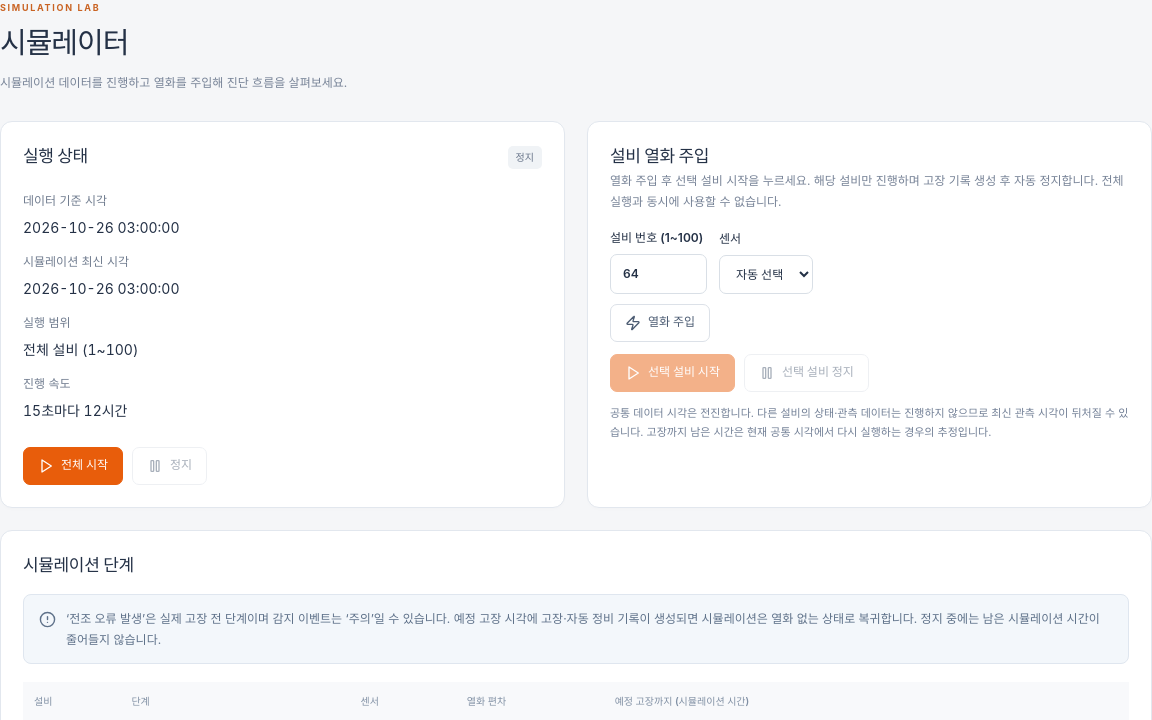
Test: scoped simulator controls › injects without starting and enables the selected run after refreshed state arrives
Expected: the button "선택 설비 시작" is disabled, [610, 354, 735, 392]
Click the button "열화 주입": coordinates (660, 323) [610, 304, 710, 342]
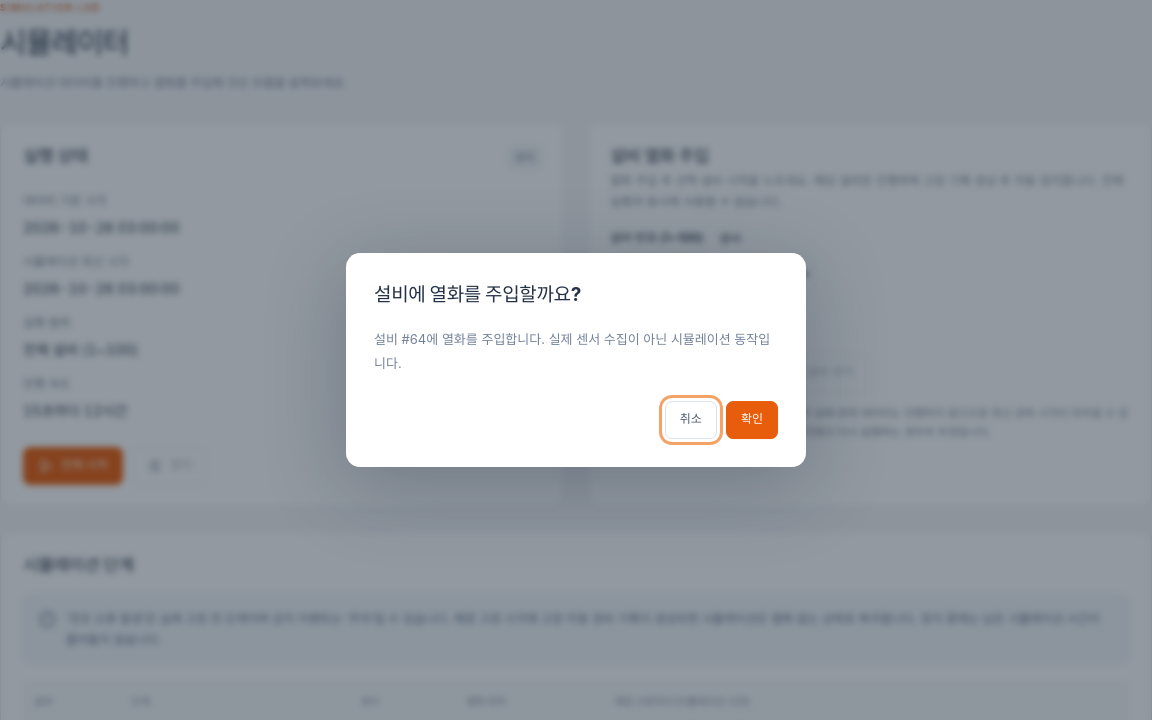
Click the button "확인": coordinates (752, 420) [726, 401, 778, 439]
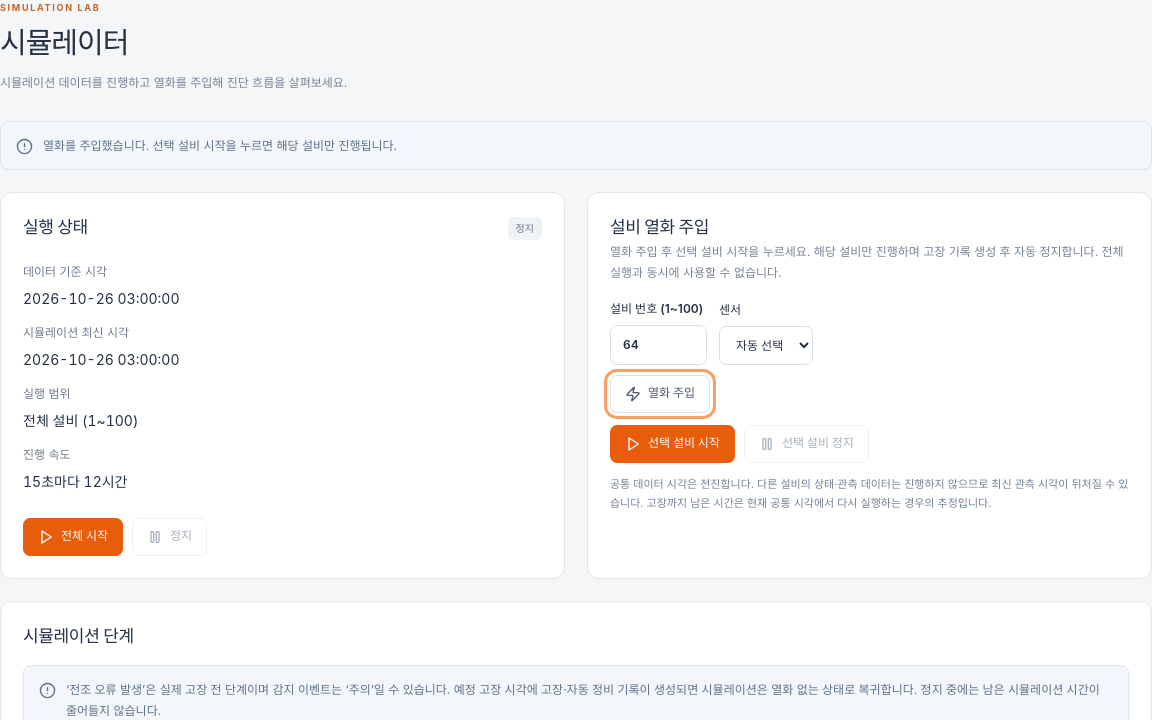
Expected: the text "열화를 주입했습니다. 선택 설비 시작을 누르면 해당 설비만 진행됩니다." is shown, [43, 135, 397, 156]
Expected: the button "선택 설비 시작" is enabled, [610, 425, 735, 463]
